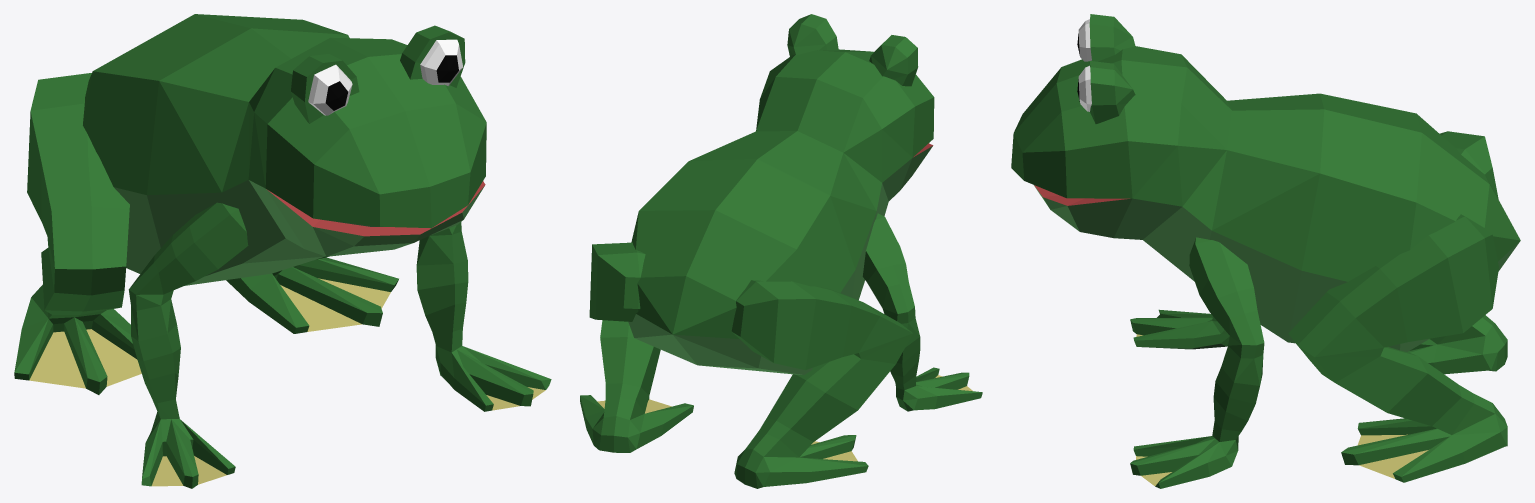
Rendered from Frog.fbx.
The picture shows the model from 3 angles, left to right: view 1: azimuth 30°, elevation 25°; view 2: azimuth 150°, elevation 25°; view 3: azimuth 270°, elevation 25°; orthographic projection. The views are drawn at different scales.
Parts seen in each view (by area): view 1: Body, Back Legs, Front Legs; view 2: Body, Back Legs, Front Legs; view 3: Body, Back Legs, Front Legs.
Part boxes in pixels (x1,y1,x2,y2): Body: (83, 14, 486, 285); Back Legs: (14, 73, 398, 394); Front Legs: (128, 202, 551, 488); Body: (628, 14, 934, 374); Back Legs: (580, 242, 912, 488); Front Legs: (862, 213, 982, 411); Body: (1011, 14, 1520, 351); Back Legs: (1288, 131, 1507, 482); Front Legs: (1130, 237, 1264, 488).
Bounding box in the file's own units: 970 × 952 × 1205.
